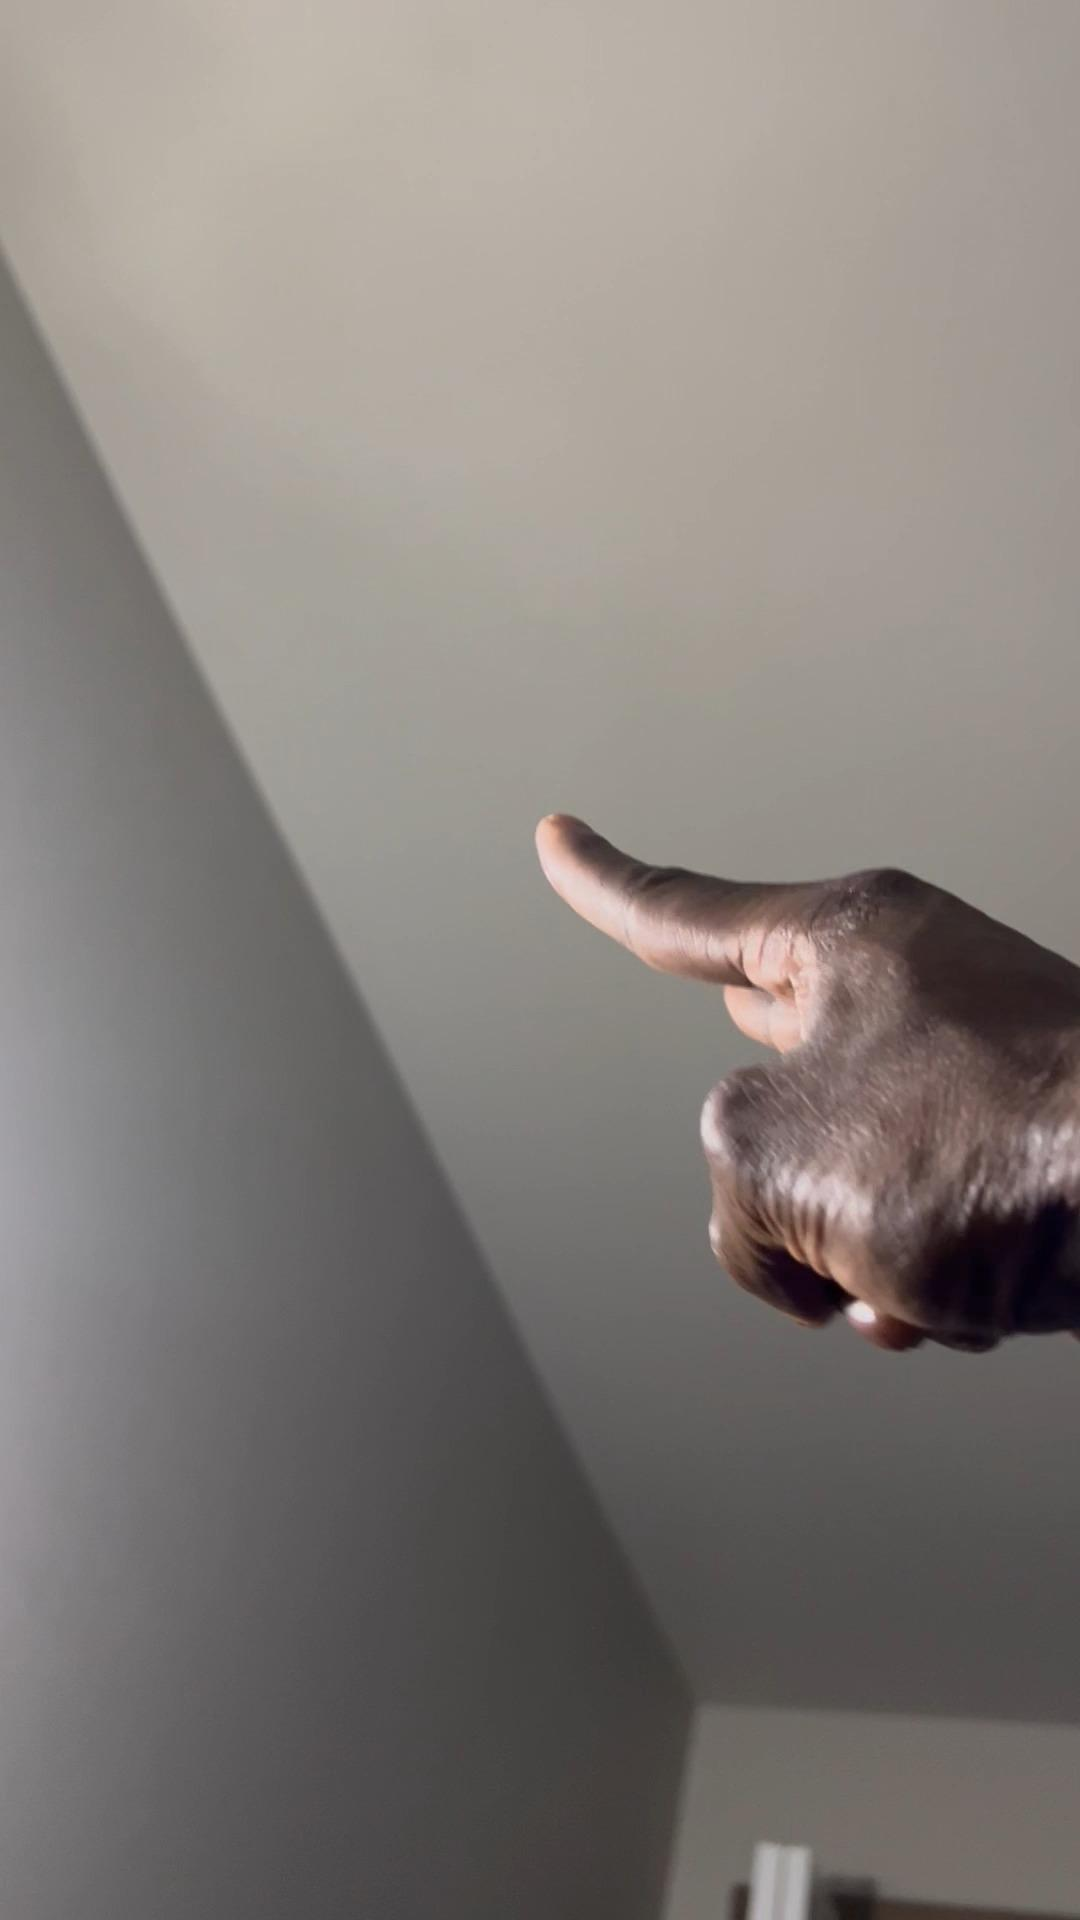Scissors: (530, 815, 1080, 1348)
